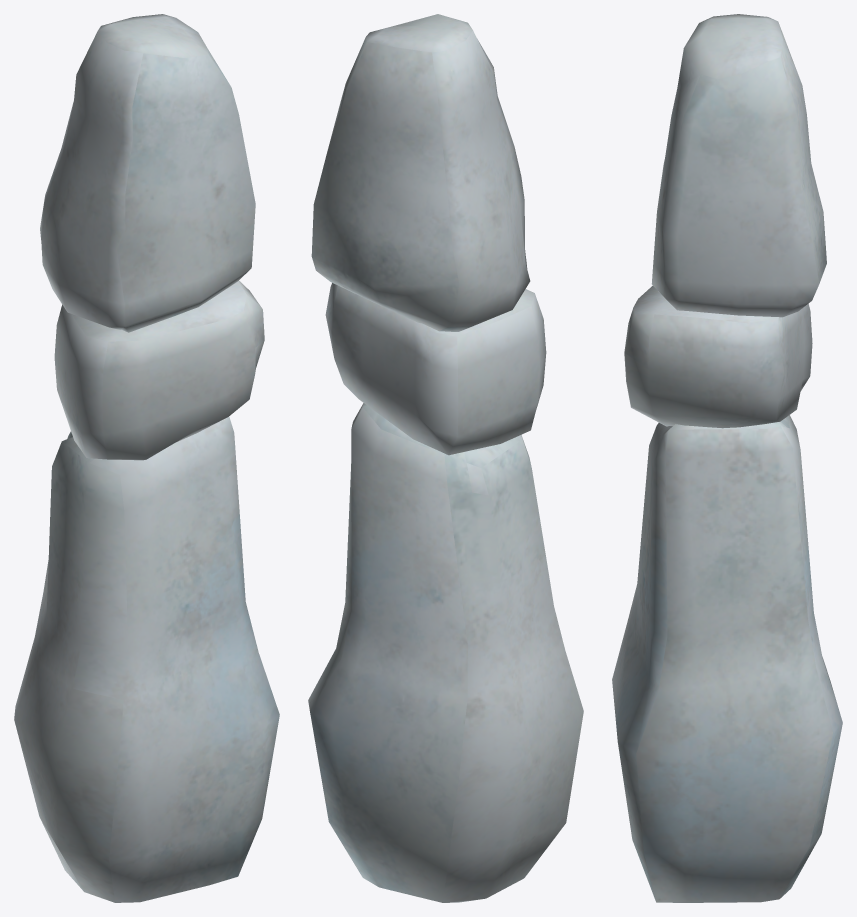
File: P_RockDesert_Hoodoo14.obj
3 views of the same model, side by side, from view 1: azimuth 30°, elevation 25°; view 2: azimuth 150°, elevation 25°; view 3: azimuth 270°, elevation 25° (orthographic). The views are drawn at different scales.
Bounding box in the file's own units: 5.21 × 19.77 × 4.81.
